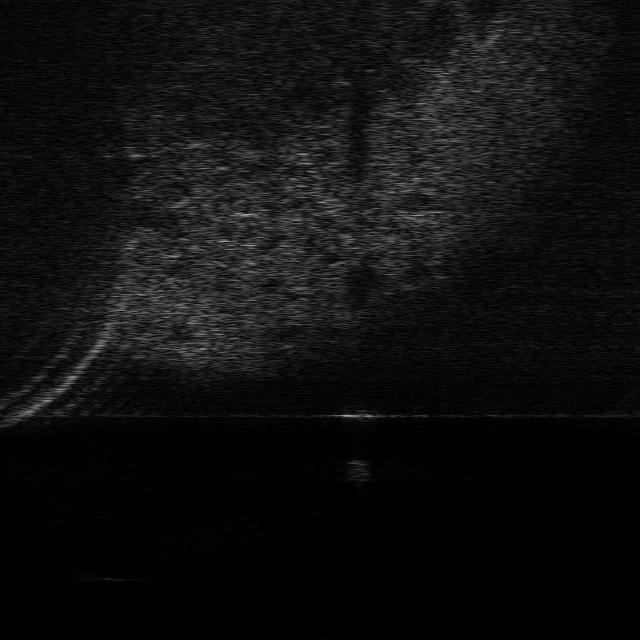cube: (344, 403, 378, 425)
cylinder: (342, 458, 373, 484)
